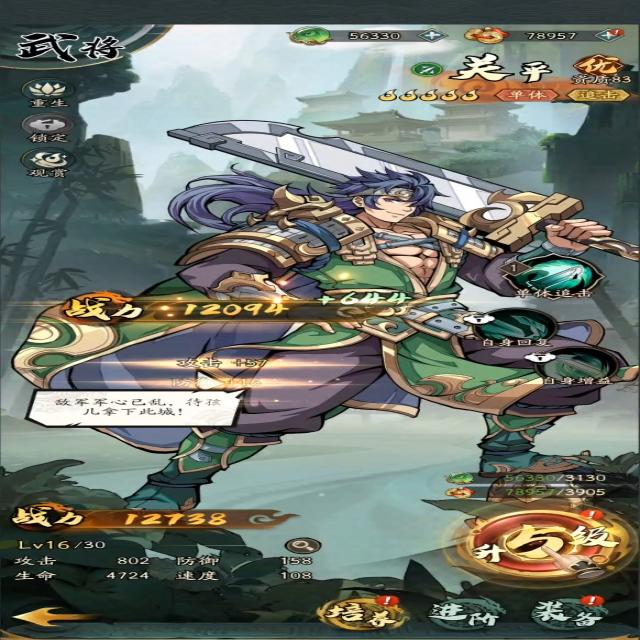hint-guide: (448, 499, 640, 587)
hint-reddot: (572, 507, 616, 525), (574, 592, 617, 609), (370, 592, 400, 608), (606, 26, 628, 38)
operation-advanced: (424, 596, 512, 634)
operation-back: (5, 598, 106, 633)
operation-equipment: (529, 595, 623, 634)
operation-levelUp: (470, 512, 625, 578)
operation-train: (320, 591, 411, 633)
skill-multi1-off: (525, 344, 634, 391)
skill-multi2-off: (461, 305, 566, 349)
skill-multi3-on: (498, 252, 612, 302)
